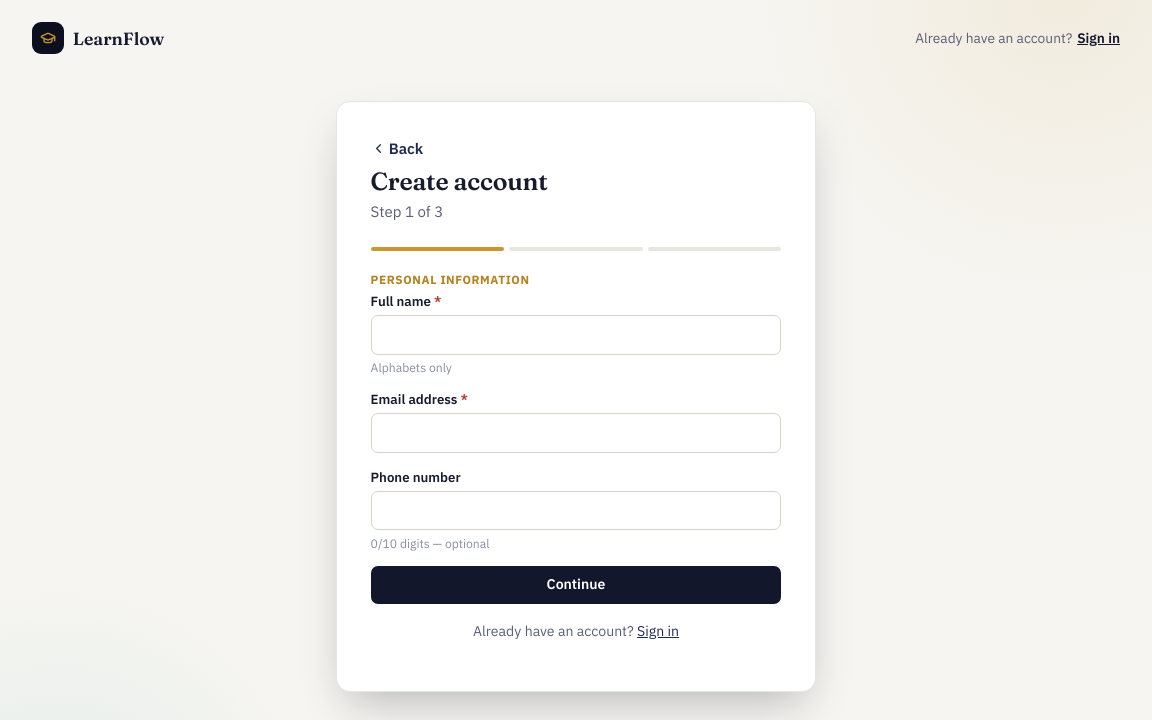
Test: Navigation and back button › clicking Back button on register step 1 navigates to login
Expected: the text "Personal information" is shown, [371,272,530,287]
Click the button "Back" at (397, 148), box [371,139,423,158]
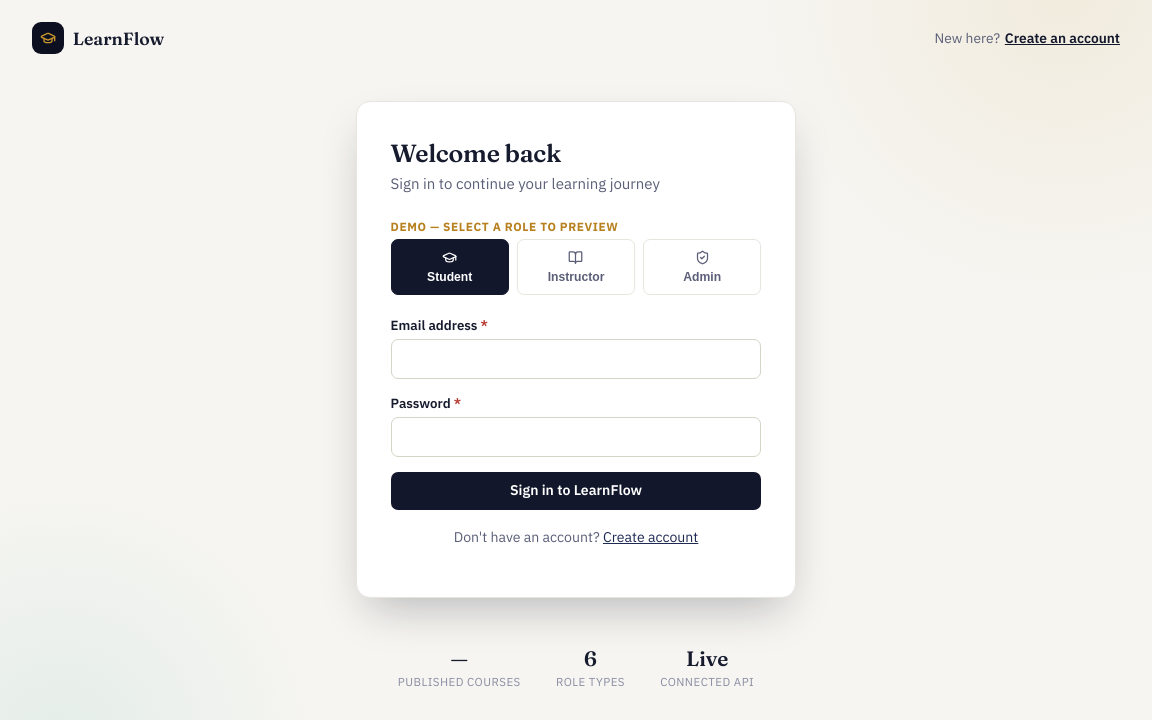
Result: the heading "Welcome back" is shown at [391,138,561,168]
